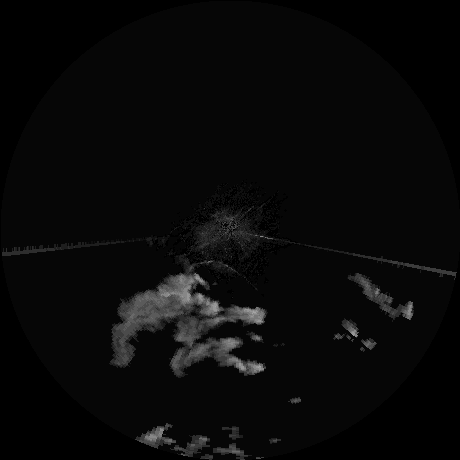frontgust: (190, 258, 239, 275)
